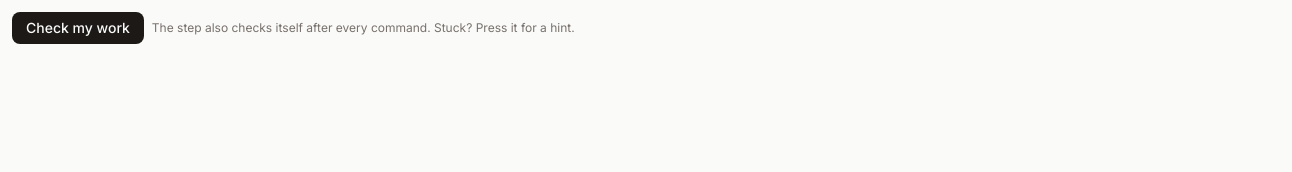
Test: when the checker's code can't be downloaded, Check my work says so and comes back
This screenshot has width=1292, height=172.
Click the button "Check my work" at {"x": 78, "y": 28}, box [12,12,144,44]
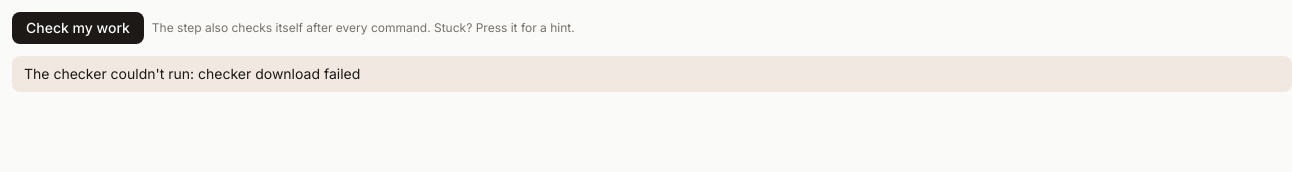
Now the text "The checker couldn't run: checker download failed" is shown, box [12,56,1291,92]
